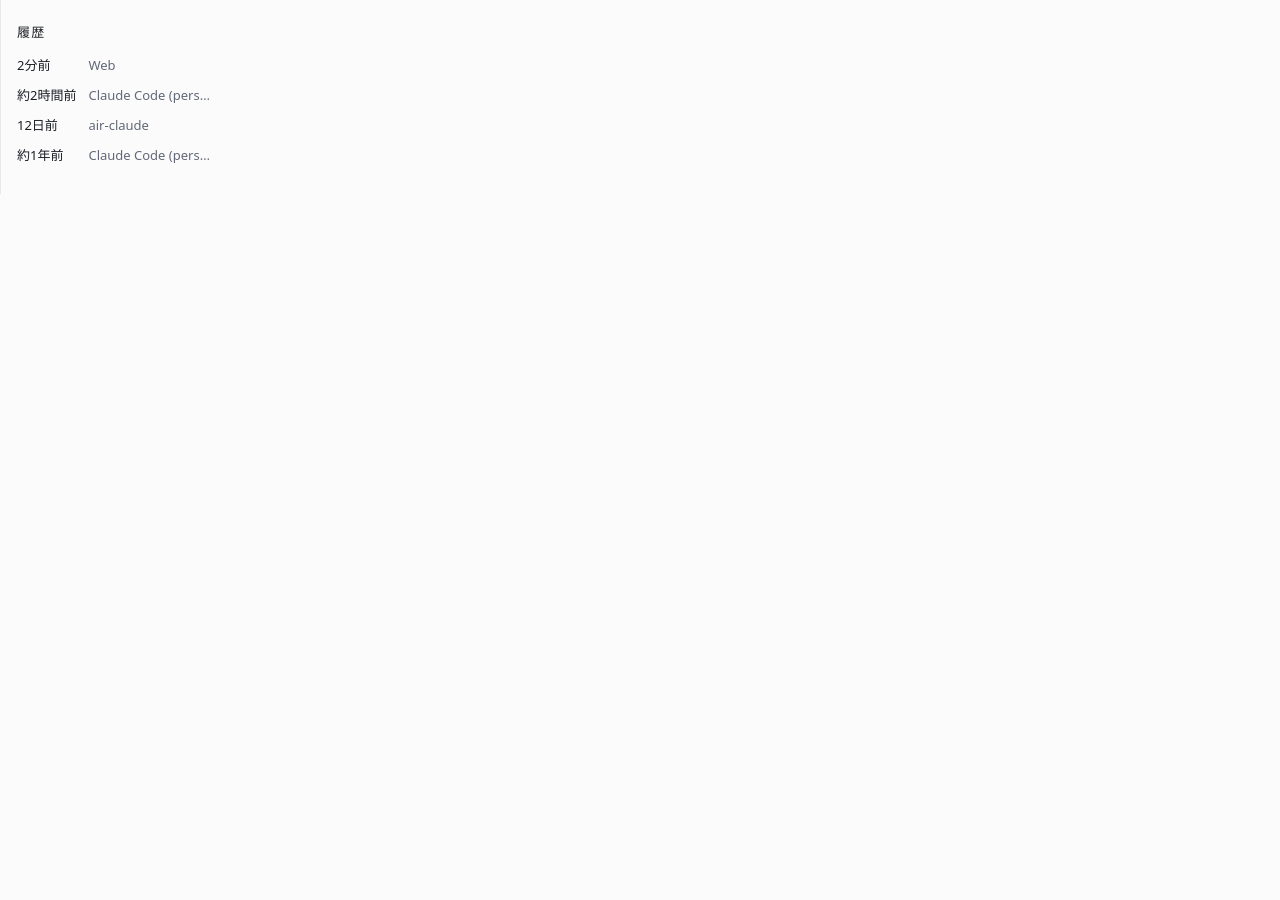
Test: 版の差分の並び › 切り替えはスクロールする欄の外にあり、本文をスクロールしても動かない
Click the button with class "revision-entry" showing "2分前 Web" at x=116, y=65, box [17,50,214,80]
(page scrolled)
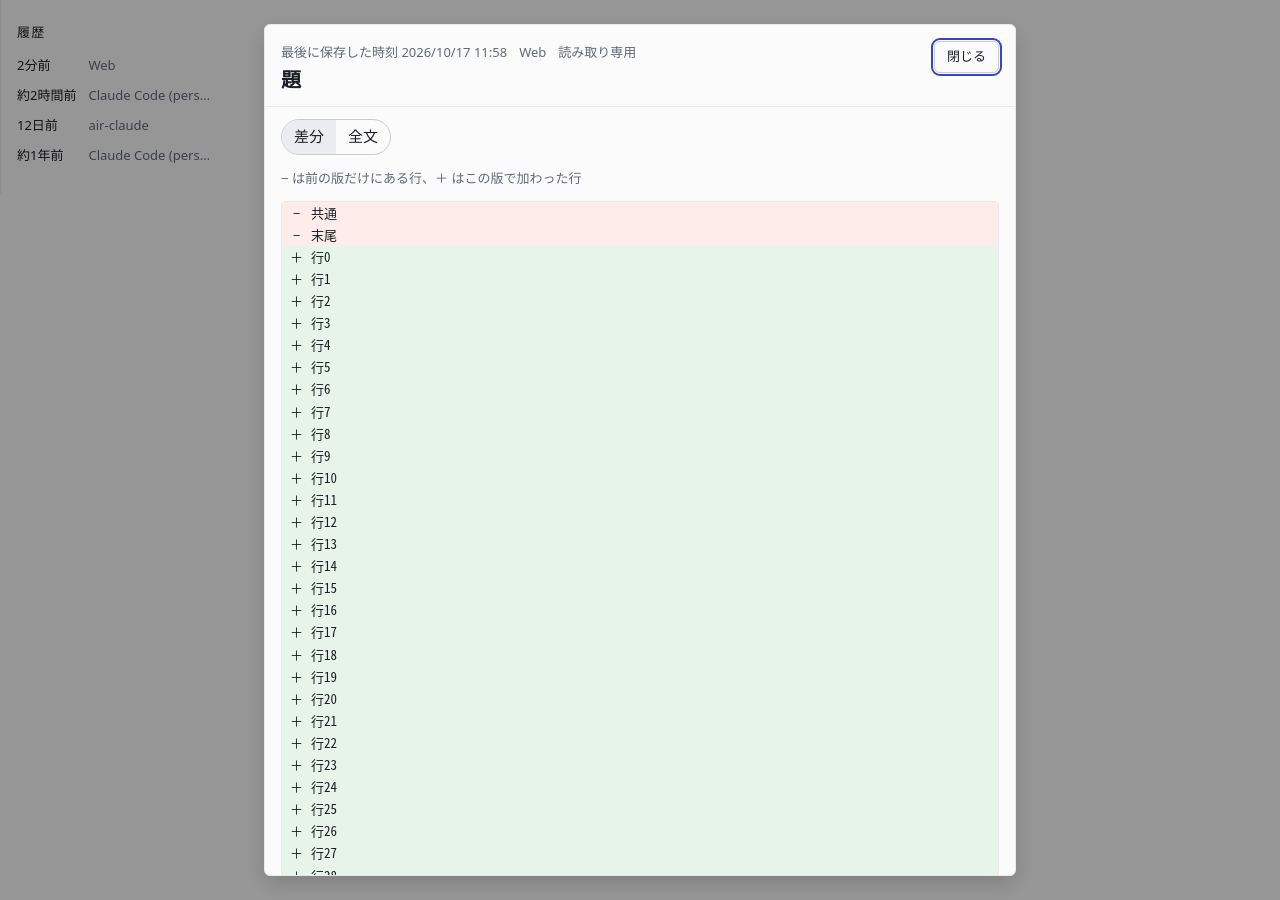
Expected: the element with class "diff-row" showing "− 共通" is shown, [282,202,998,224]
